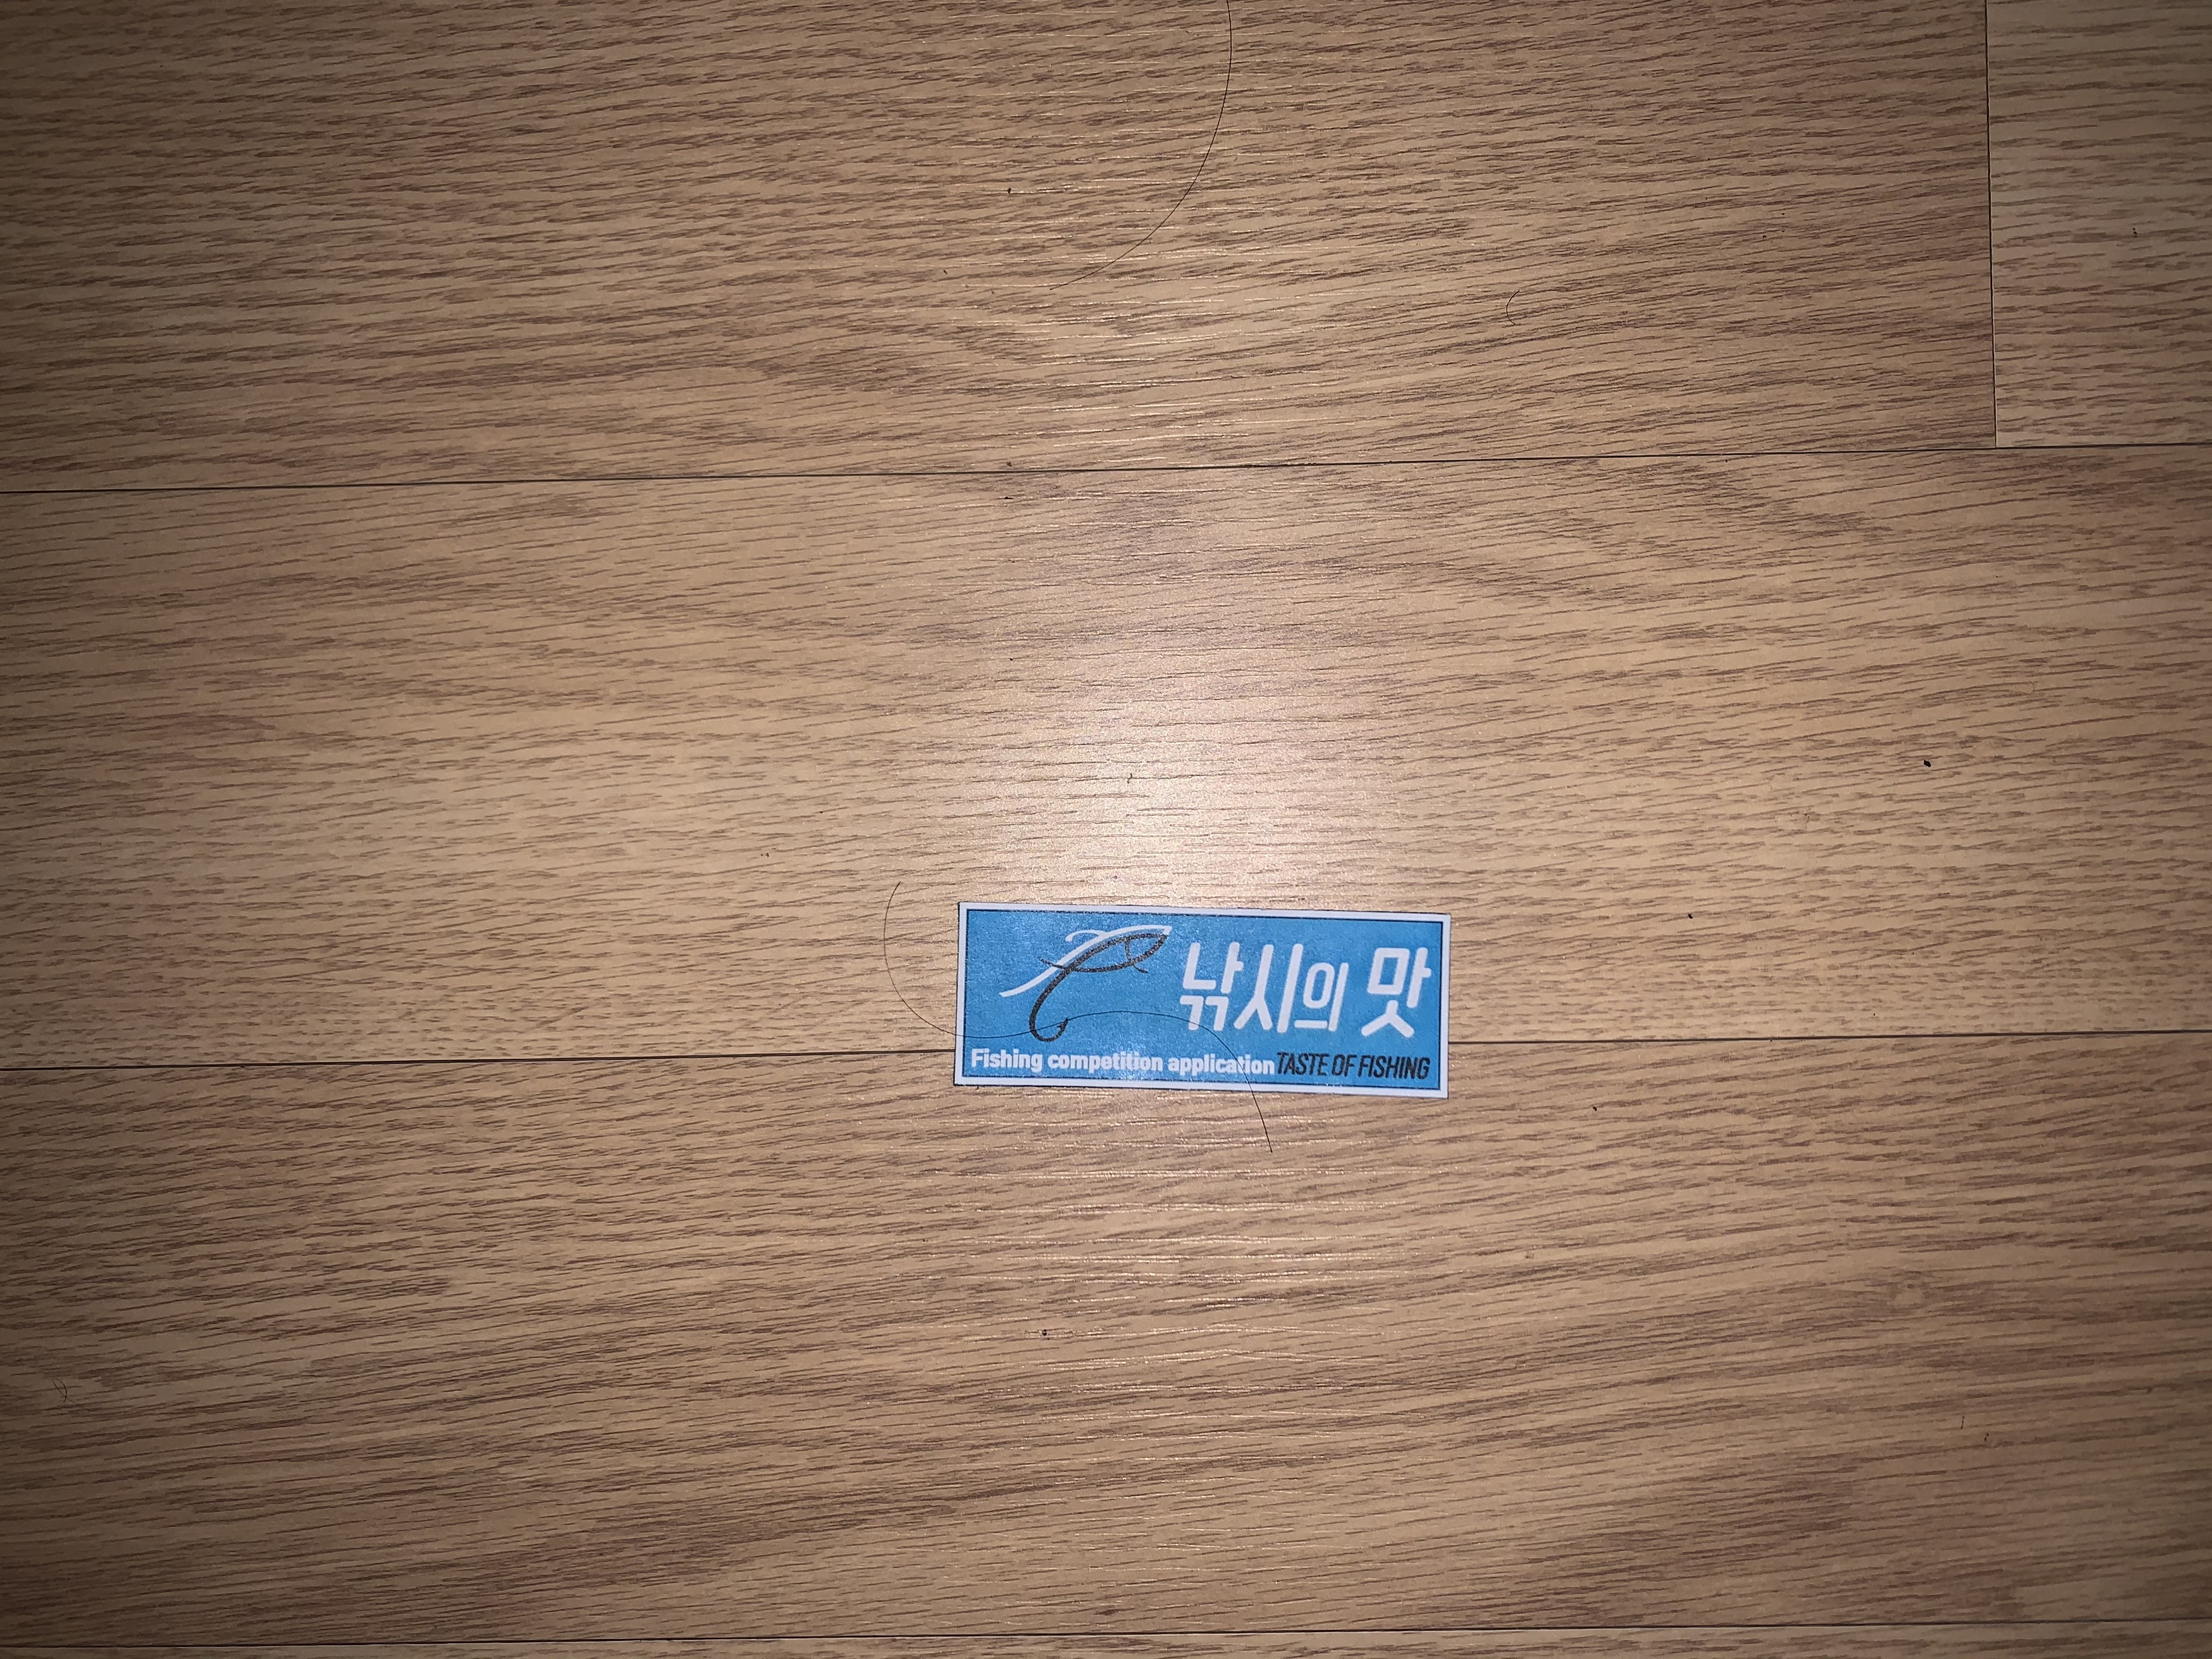tag: (958, 901, 1449, 1100)
